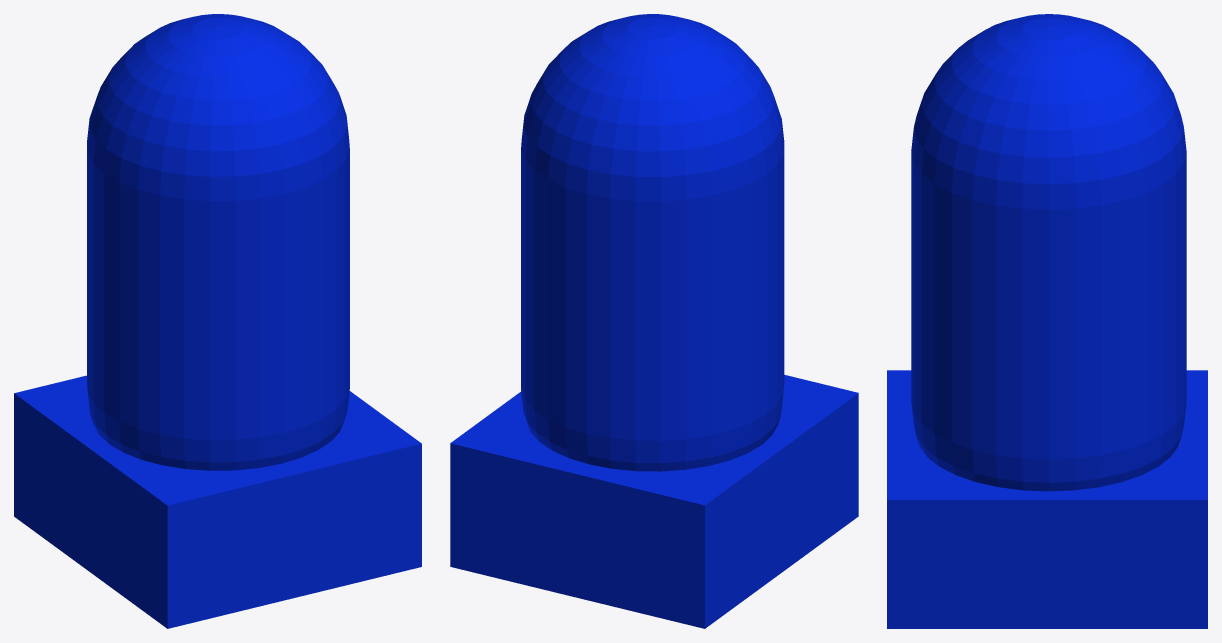
Rendered from LowPolyNuke.fbx.
3 views of the same model, side by side, from view 1: azimuth 30°, elevation 25°; view 2: azimuth 150°, elevation 25°; view 3: azimuth 270°, elevation 25° (orthographic). The views are drawn at different scales.
Visible parts, largest first — view 1: Sphere; view 2: Sphere; view 3: Sphere.
Boxes of the visible parts, x1,y1,x2,y2 form: Sphere: (14, 14, 421, 628); Sphere: (450, 14, 858, 628); Sphere: (887, 14, 1207, 628).
Size of the model in its own units: 223 by 431 by 233.
